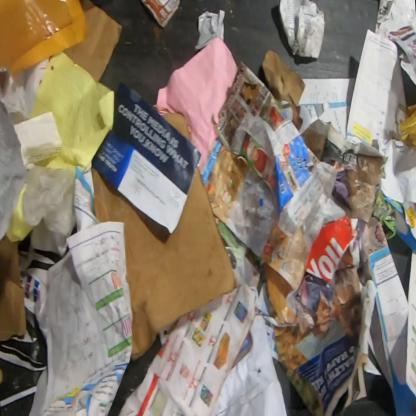cardboard: (90, 166, 238, 364), (63, 0, 123, 83), (0, 233, 28, 342), (162, 111, 192, 144)
soft_plastic: (0, 0, 89, 78), (20, 164, 78, 238)
